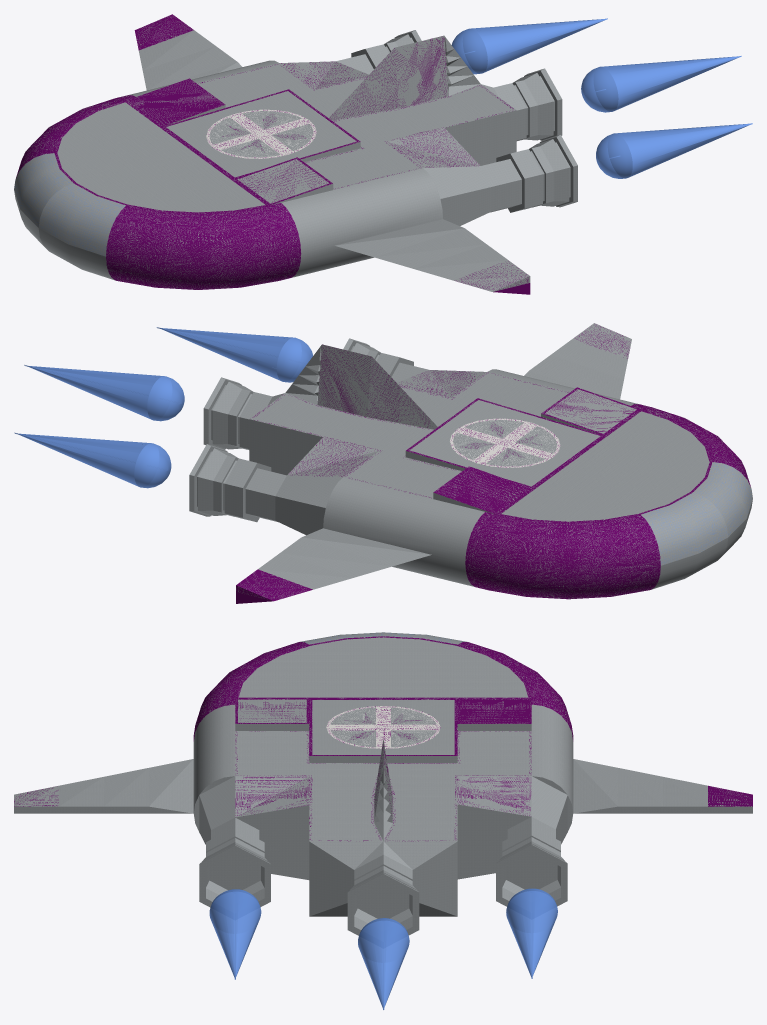
3 renders of one model, top to bottom at view 1: azimuth 30°, elevation 25°; view 2: azimuth 150°, elevation 25°; view 3: azimuth 270°, elevation 25°, orthographic. The views are drawn at different scales.
Parts seen in each view (by area): view 1: SketchUp (×27); view 2: SketchUp (×27); view 3: SketchUp (×23).
Boxes of the visible parts, x1,y1,x2,y2 form: SketchUp (×27): (14, 14, 752, 291); SketchUp (×27): (14, 323, 752, 601); SketchUp (×23): (14, 632, 752, 1009).
Bounding box in the file's own units: 2415 × 2128 × 427.
5 materials, 1 textured.
